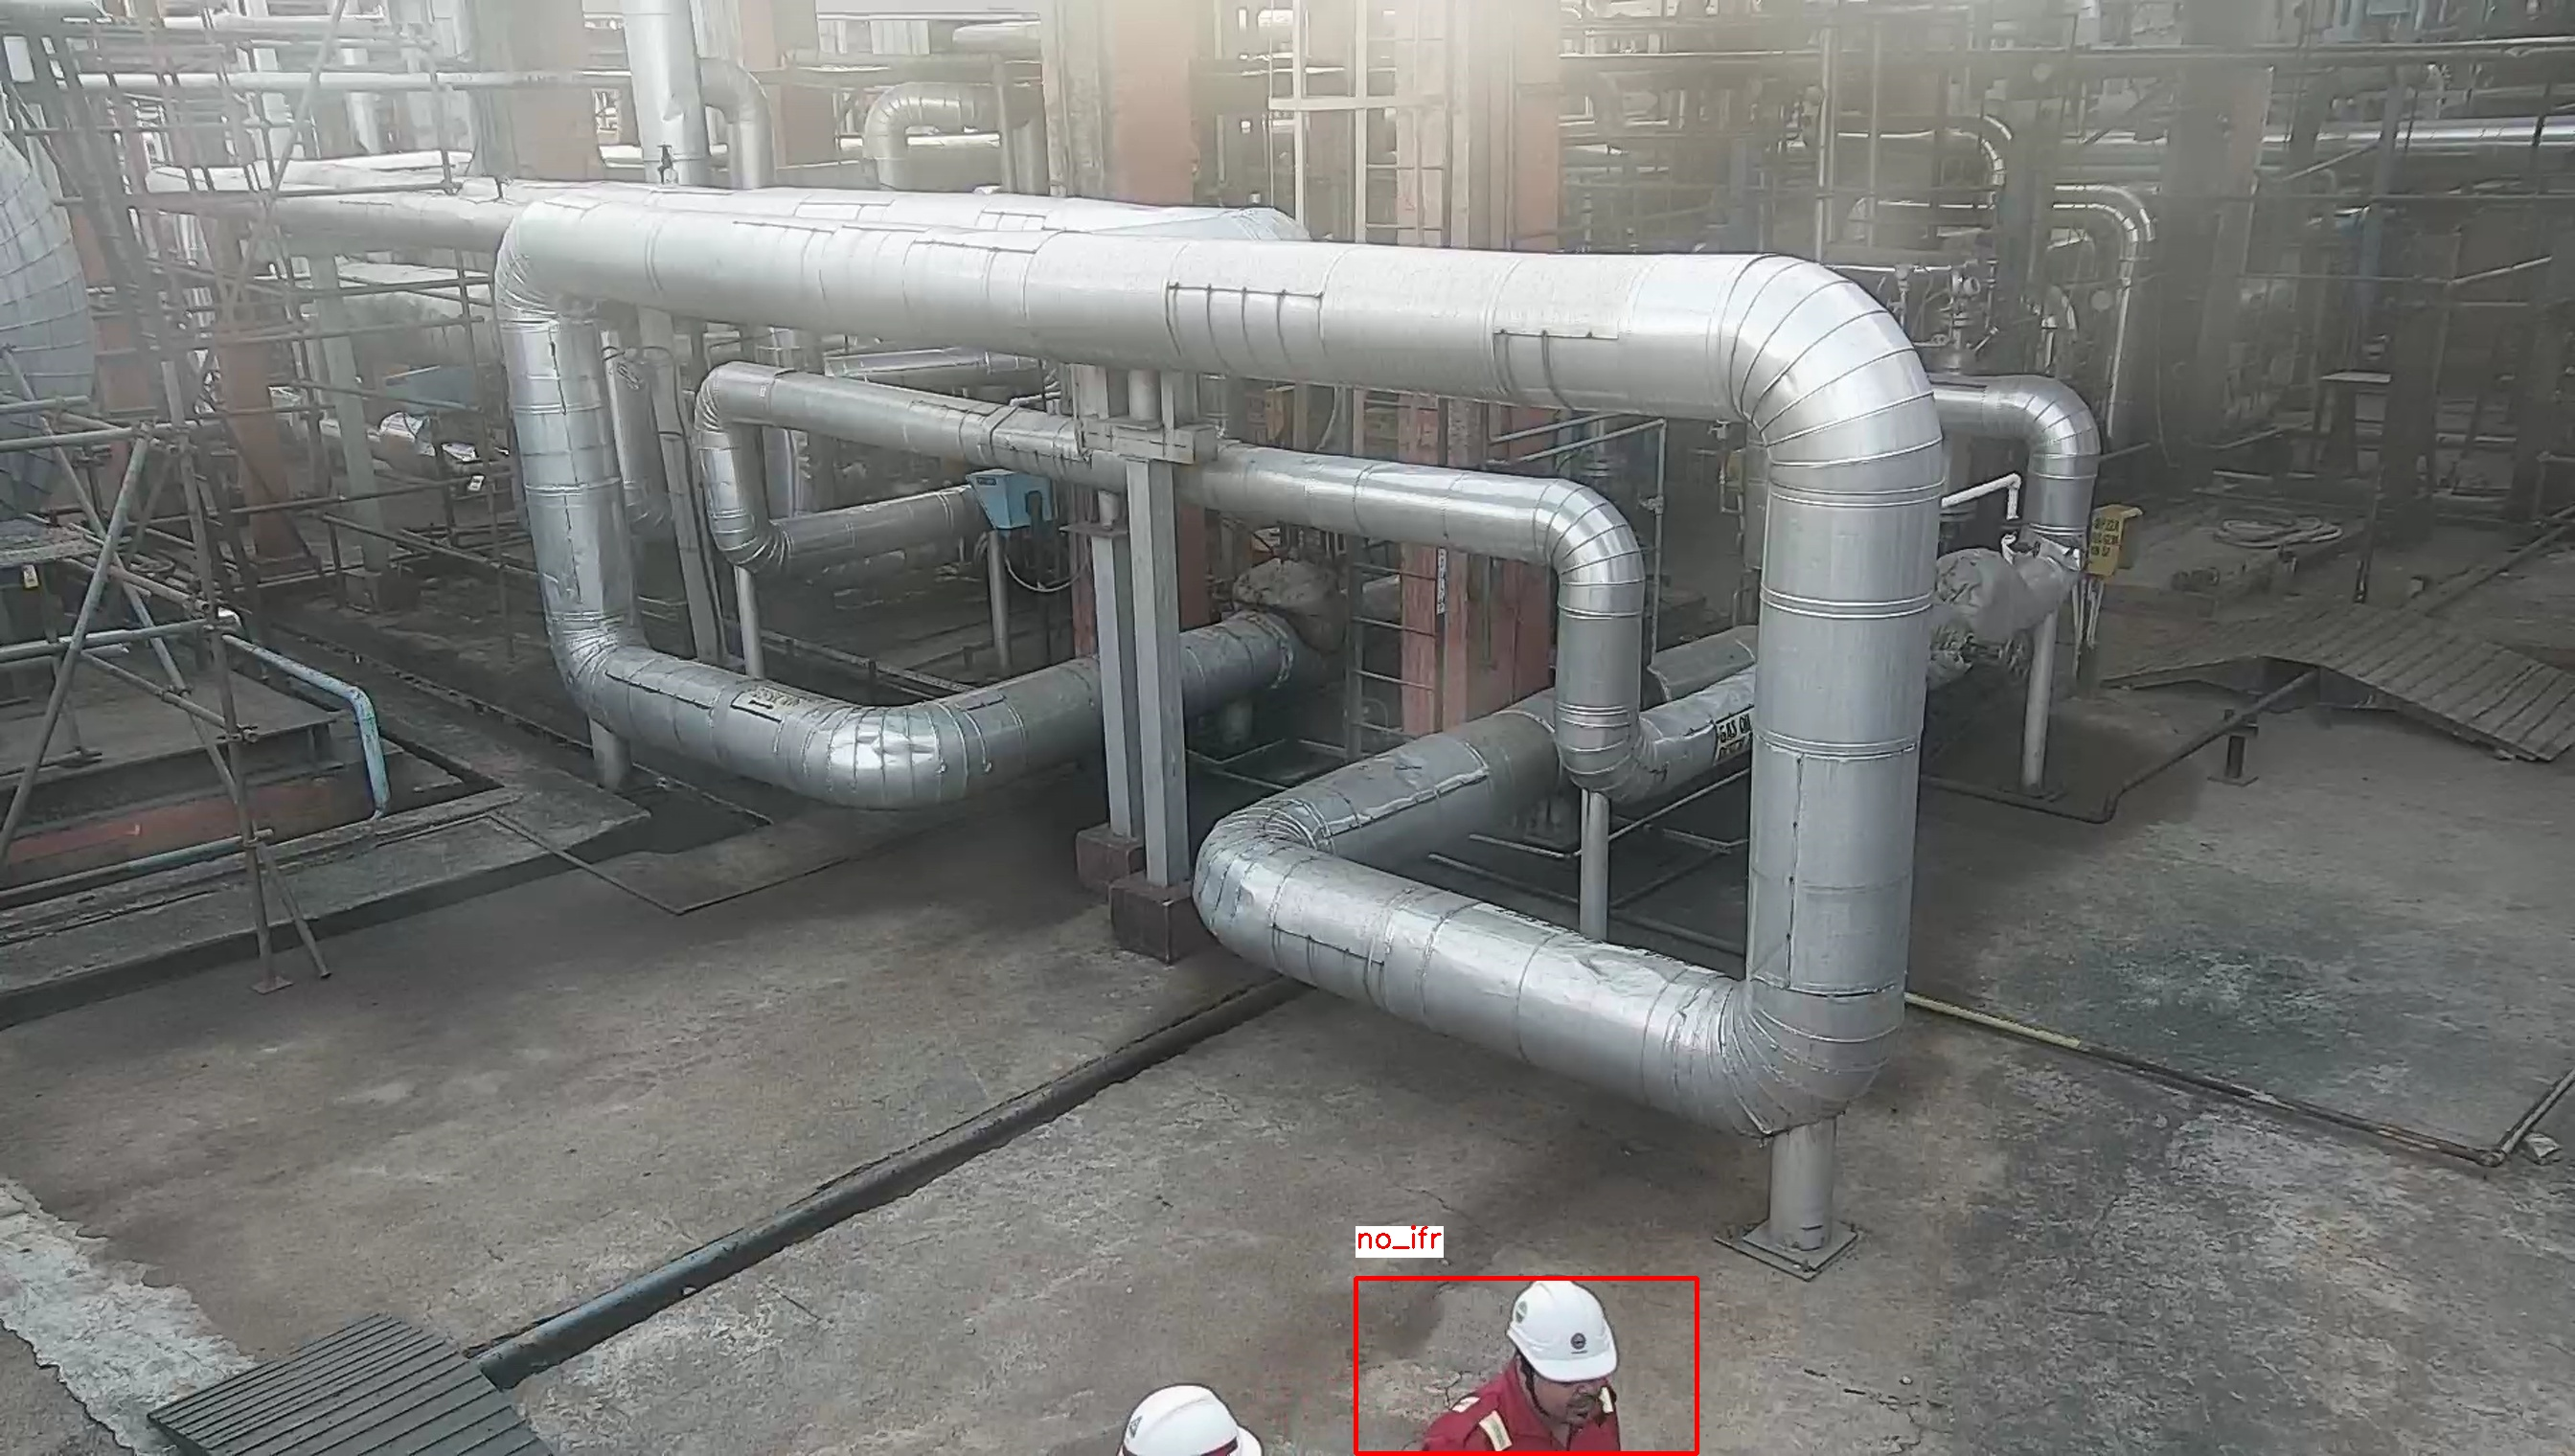Helmets: (1505, 1279, 1622, 1389)
